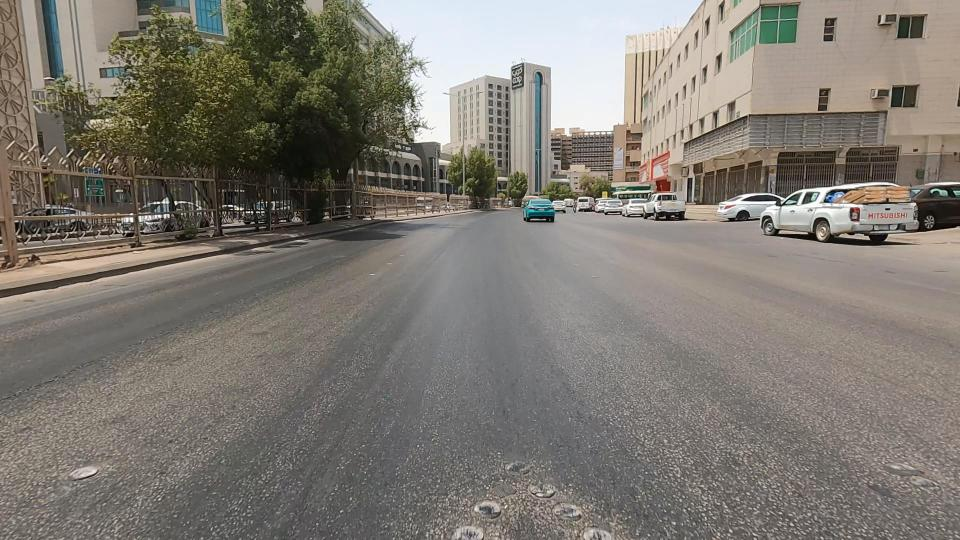BAD_BILLBOARD: (691, 76, 951, 181), (644, 105, 794, 187)
